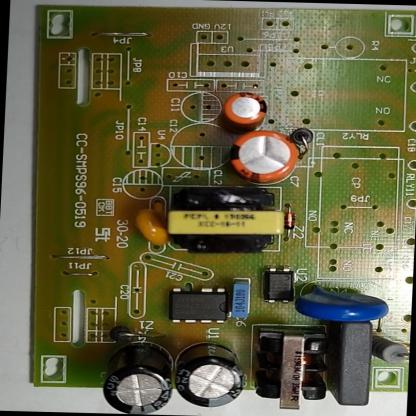Cap1: (216, 127, 310, 188)
Cap2: (214, 86, 277, 135)
Cap3: (165, 340, 252, 412)
Cap4: (96, 329, 181, 415)
MOSFET: (159, 284, 236, 327)
Mov: (290, 276, 394, 325)
Resistor: (369, 334, 410, 366)
Transformer: (159, 187, 288, 256), (249, 323, 332, 413)
